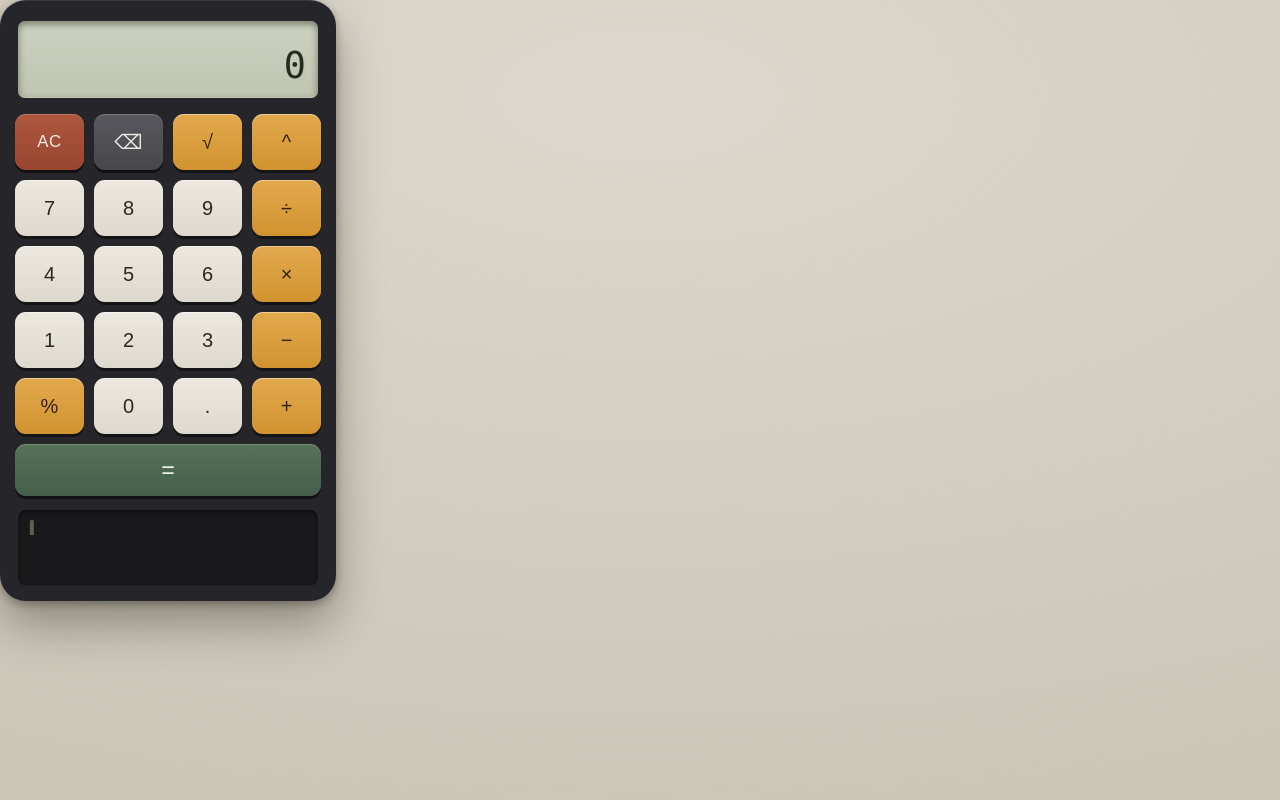
Test: Calculator › shows a friendly divide-by-zero message
Click the button "1".
click(50, 340)  # box [15,312,84,368]
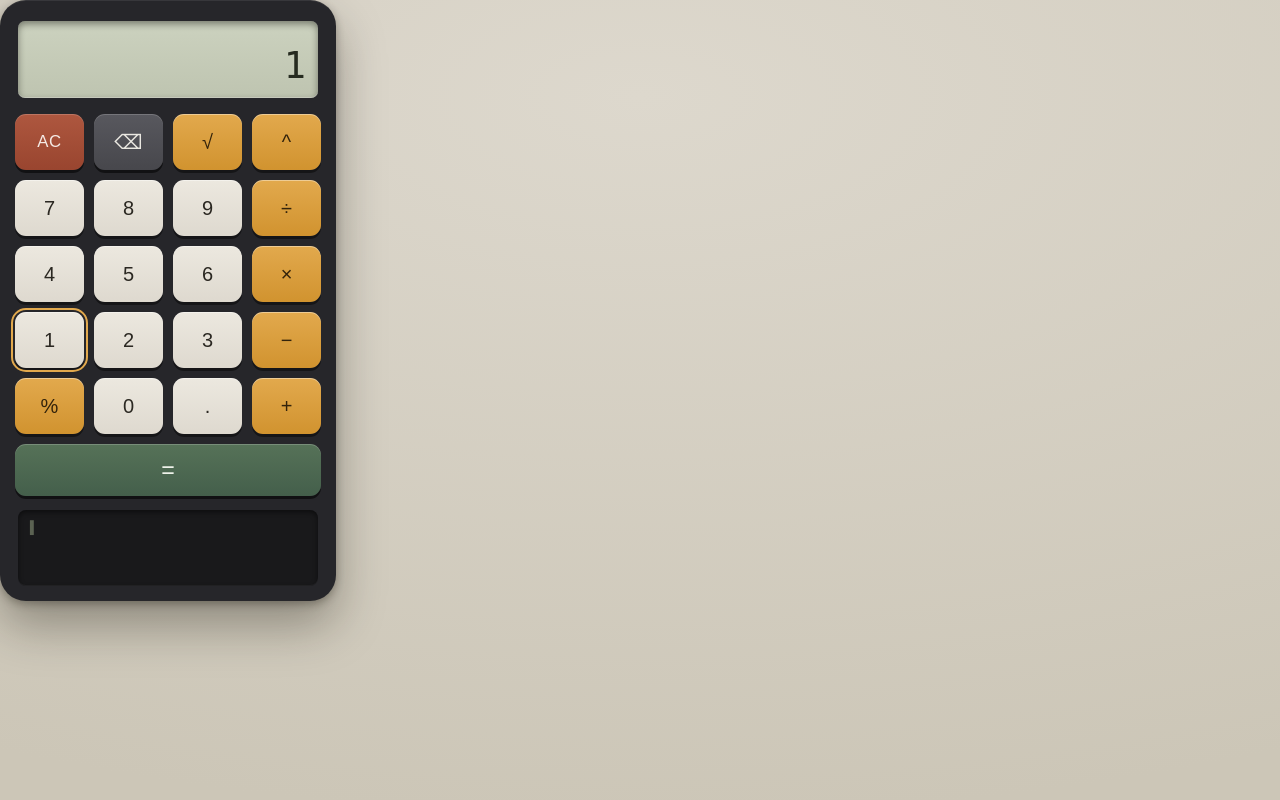
Click the button "0".
click(128, 406)  # box [94,378,163,434]
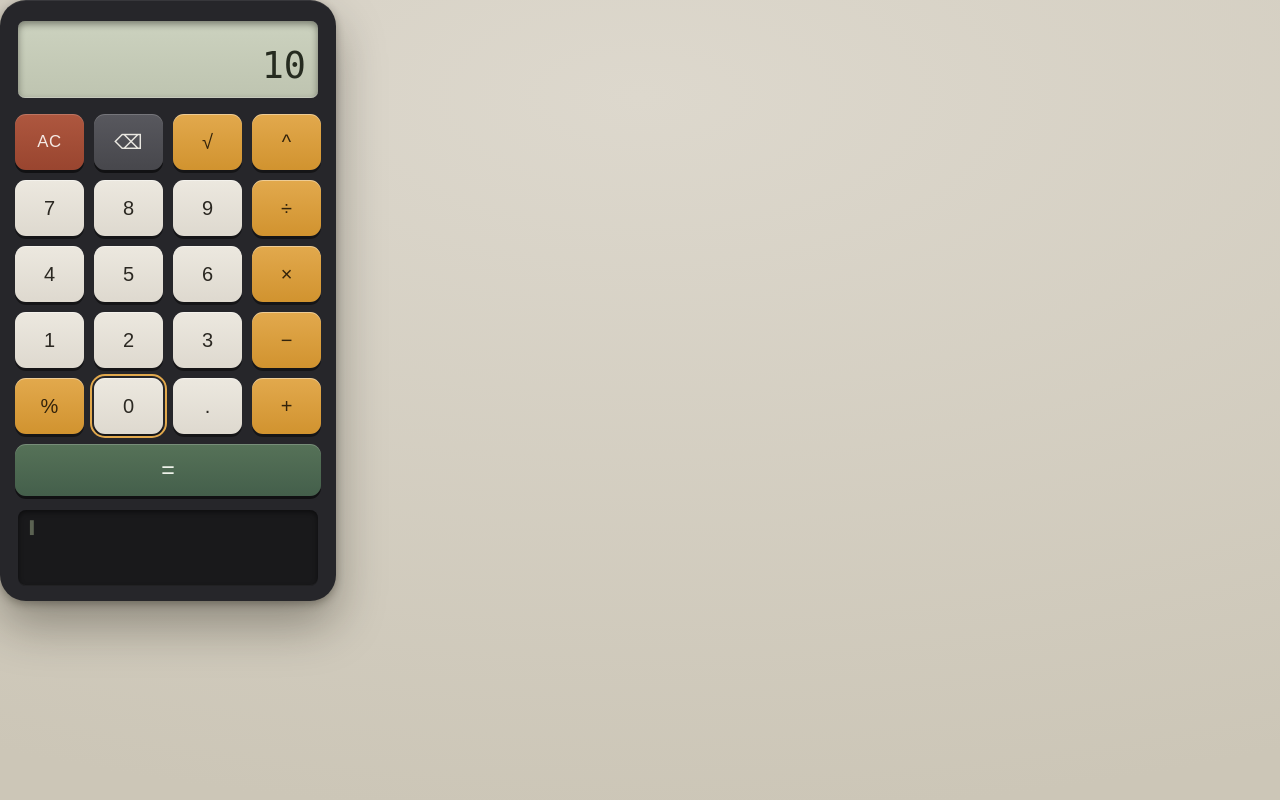
Click the button named "divide".
click(286, 208)  # box [252,180,321,236]
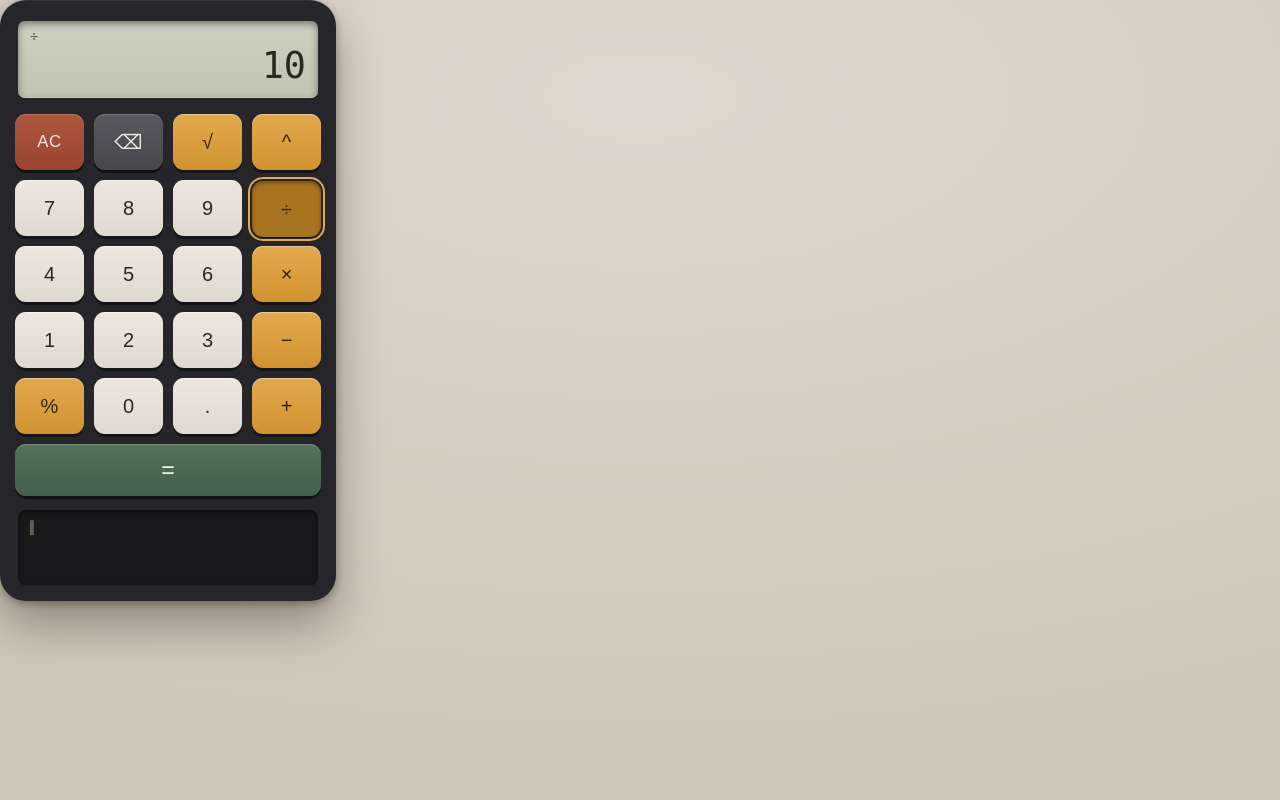
Click the button "0".
click(128, 406)  # box [94,378,163,434]
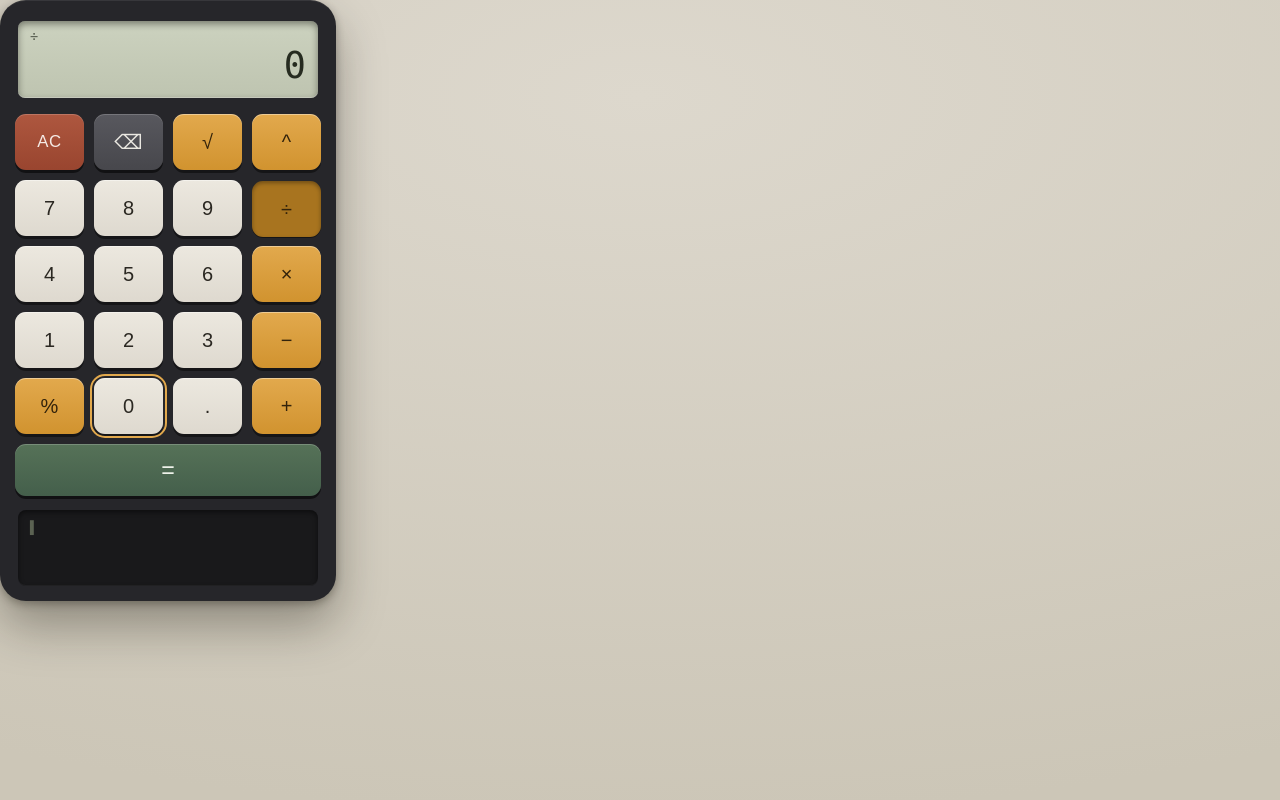
Click the button named "equals".
click(168, 470)  # box [15,444,321,496]
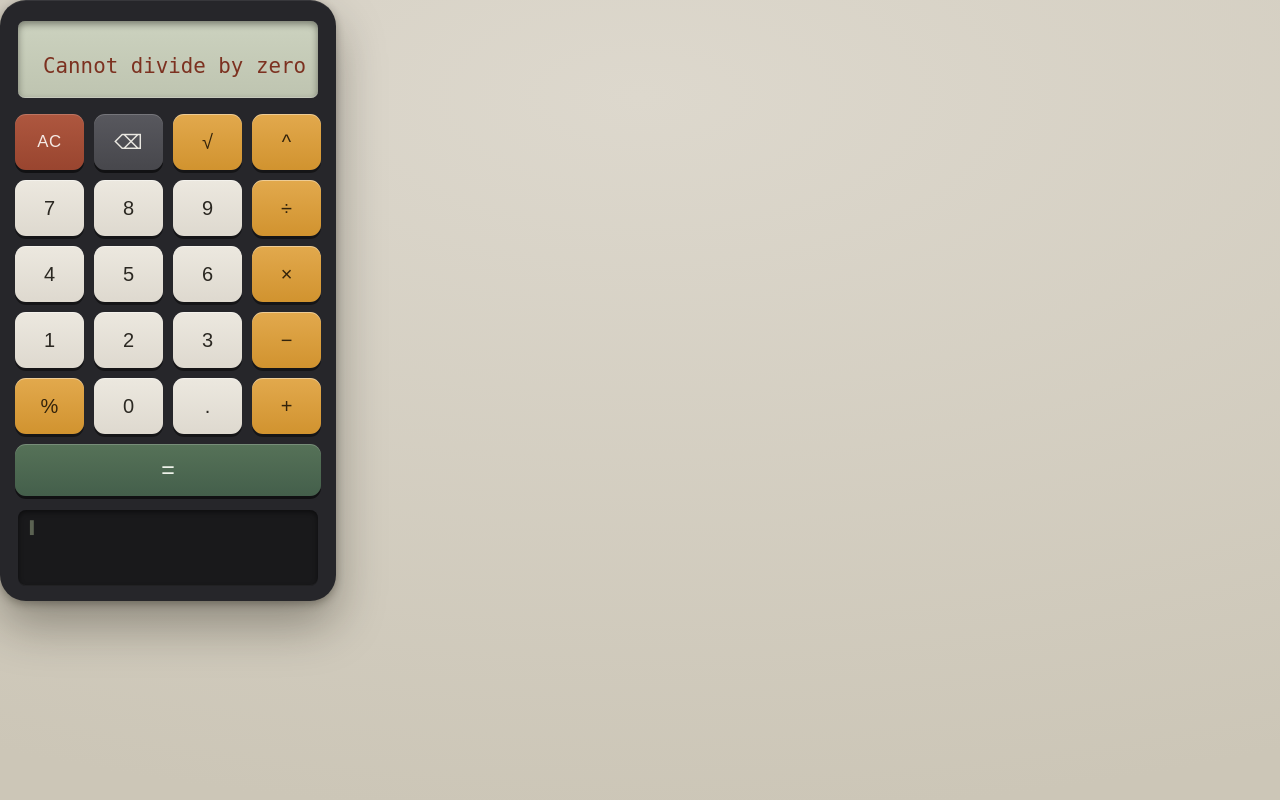
Result: the text "Cannot divide by zero" is shown at [43,54,306,78]
